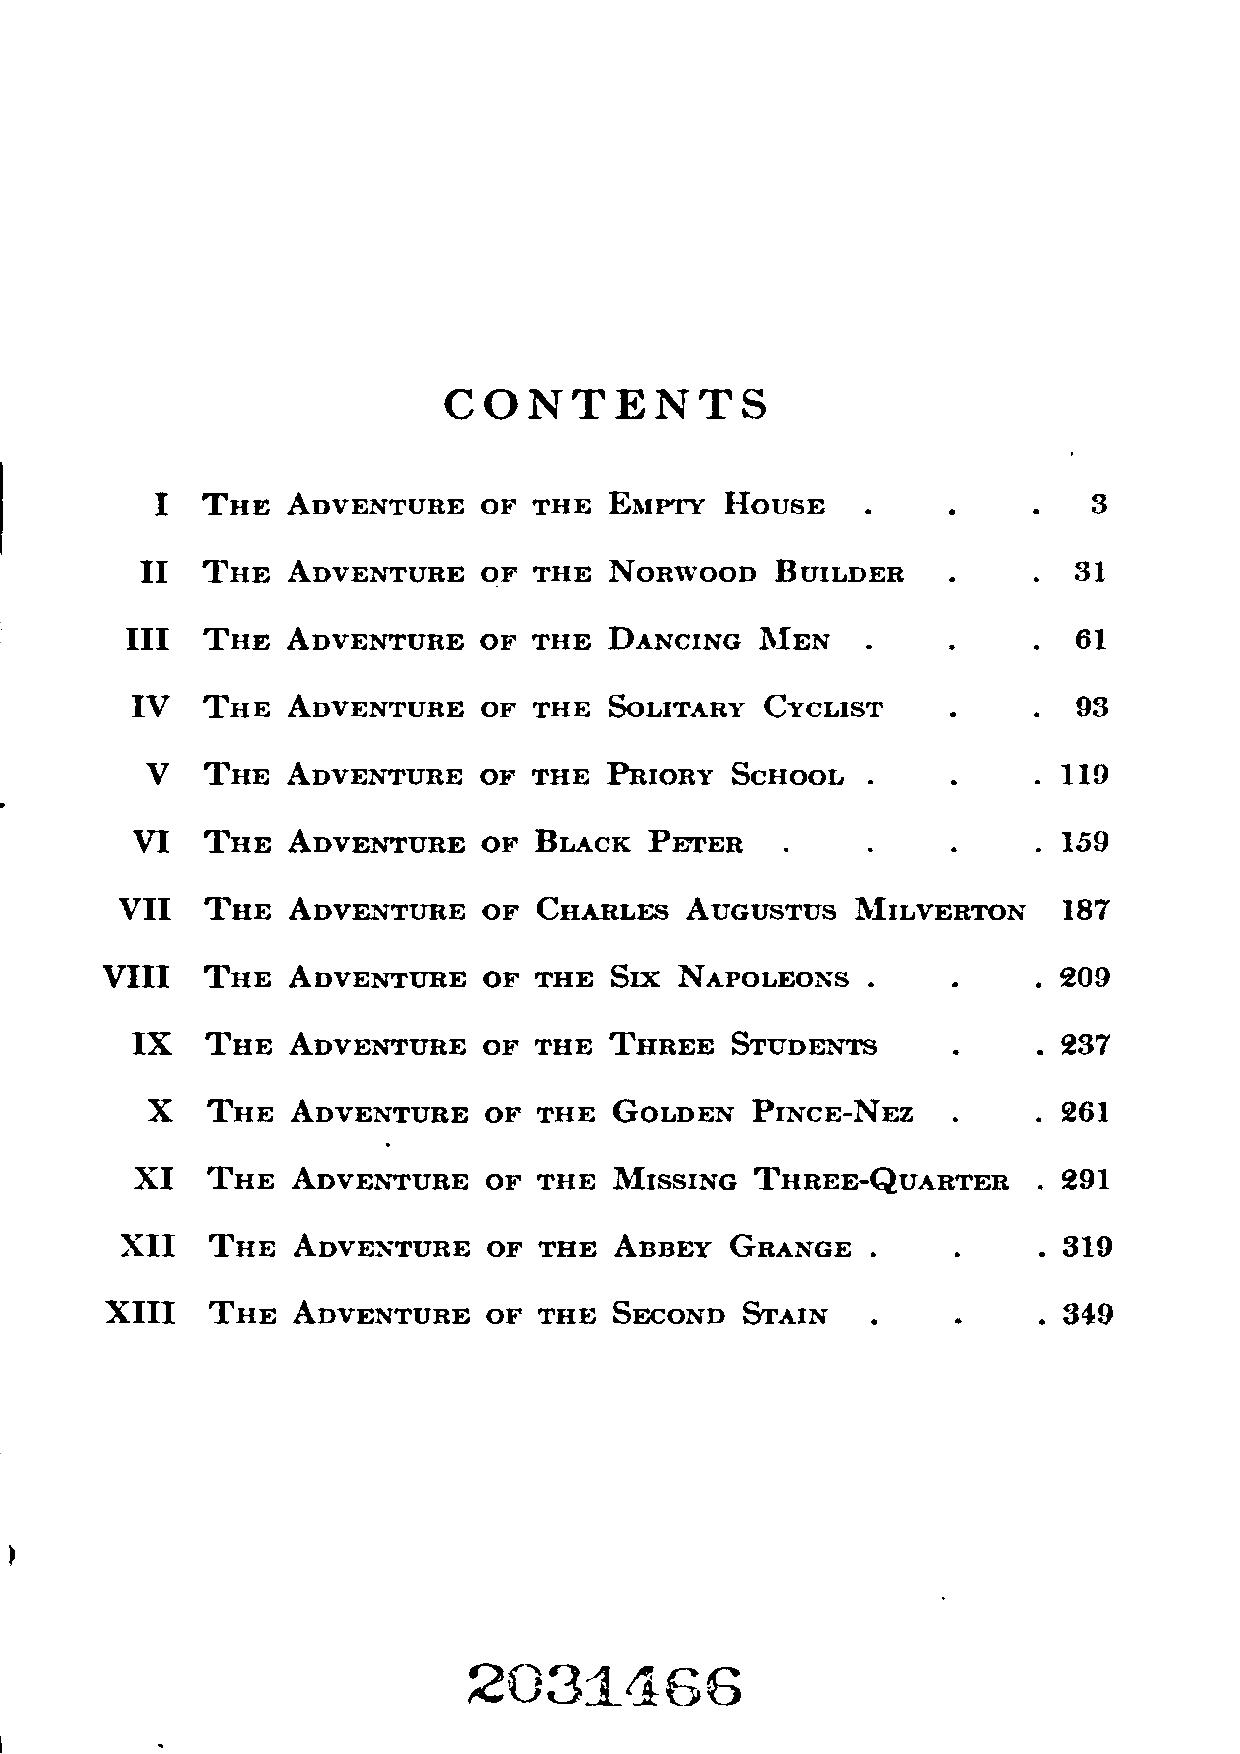TOC_chapter: (115, 892, 1029, 929), (129, 1159, 1011, 1194), (136, 556, 909, 595), (145, 1091, 917, 1126), (125, 688, 891, 723), (129, 1027, 880, 1062), (97, 960, 849, 993), (118, 1227, 852, 1260), (118, 620, 831, 654), (138, 756, 848, 789), (101, 1296, 829, 1329), (144, 488, 829, 521), (125, 823, 753, 858)
TOC_pagenumber: (1056, 757, 1113, 789), (1053, 1298, 1118, 1326), (1057, 960, 1115, 990), (1053, 1165, 1113, 1194), (1057, 892, 1111, 925), (1060, 1231, 1115, 1261), (1057, 1096, 1110, 1127), (1060, 1031, 1115, 1059), (1062, 827, 1113, 856), (1072, 556, 1108, 589), (1074, 625, 1108, 654), (1072, 694, 1108, 719), (1087, 491, 1110, 519)
chapter: (440, 381, 770, 425)
